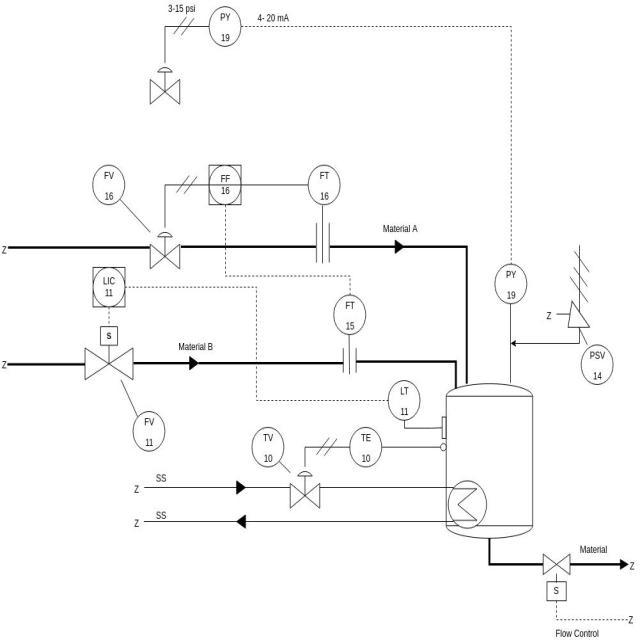Orifice: (305, 211, 347, 271), (336, 336, 366, 384)
Pneumatic-Diaphragm Gate Valve: (136, 56, 197, 117), (288, 466, 326, 519), (148, 228, 184, 278)
Solenoid Operated Gate Valve: (64, 312, 156, 395), (534, 544, 581, 606)
